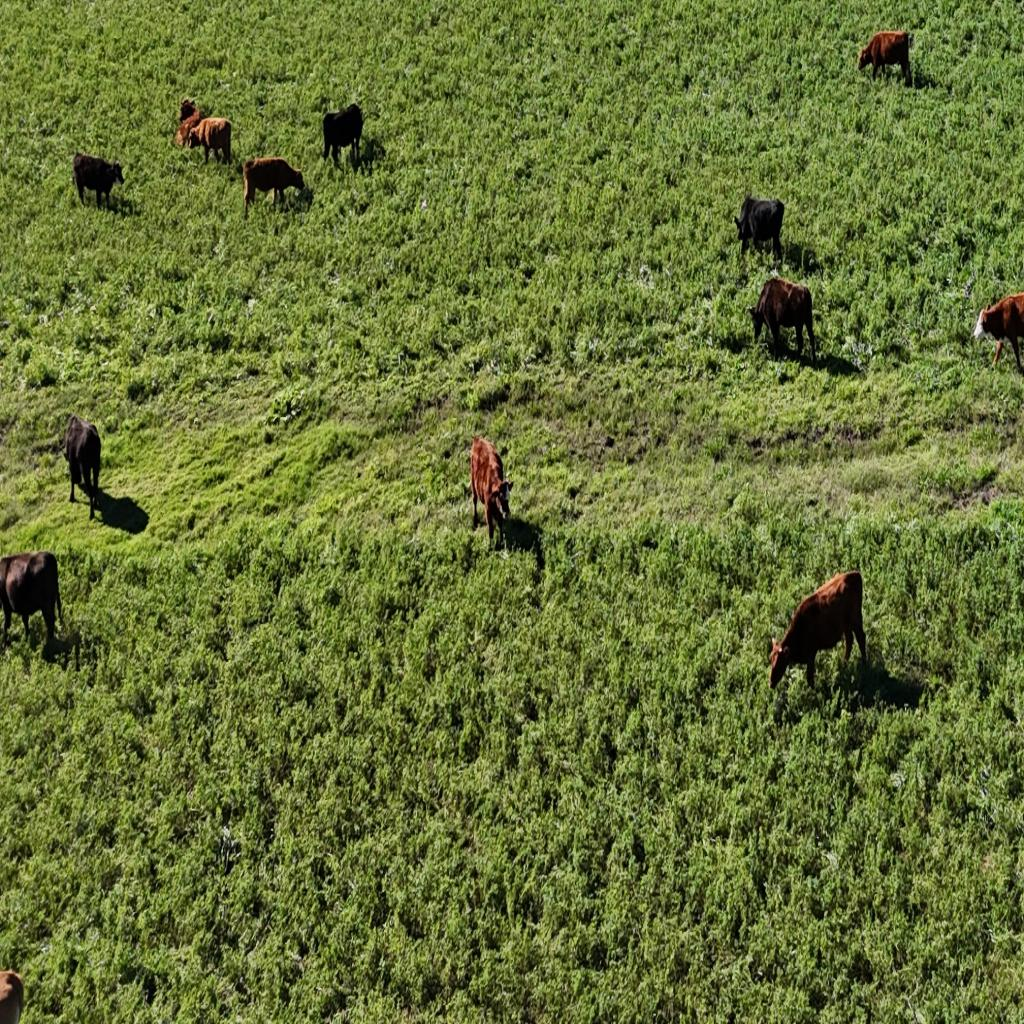cow: (768, 572, 868, 694), (1, 552, 63, 652), (746, 276, 814, 364), (470, 435, 515, 550), (60, 414, 102, 521), (973, 292, 1024, 374), (242, 155, 304, 215), (732, 196, 784, 263), (858, 29, 913, 87), (72, 151, 125, 211), (321, 103, 362, 169), (185, 117, 232, 166), (174, 99, 204, 147)
